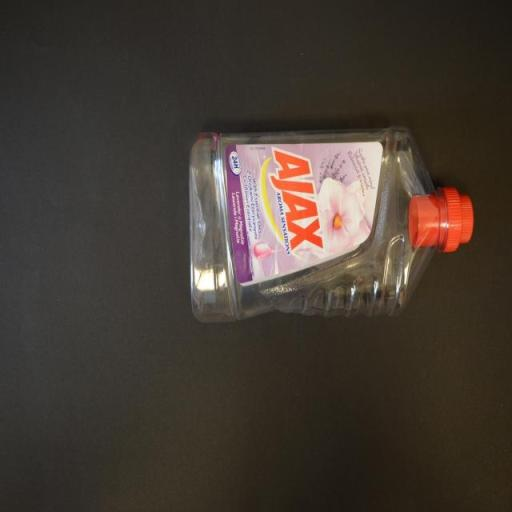plastic: (189, 126, 475, 324)
